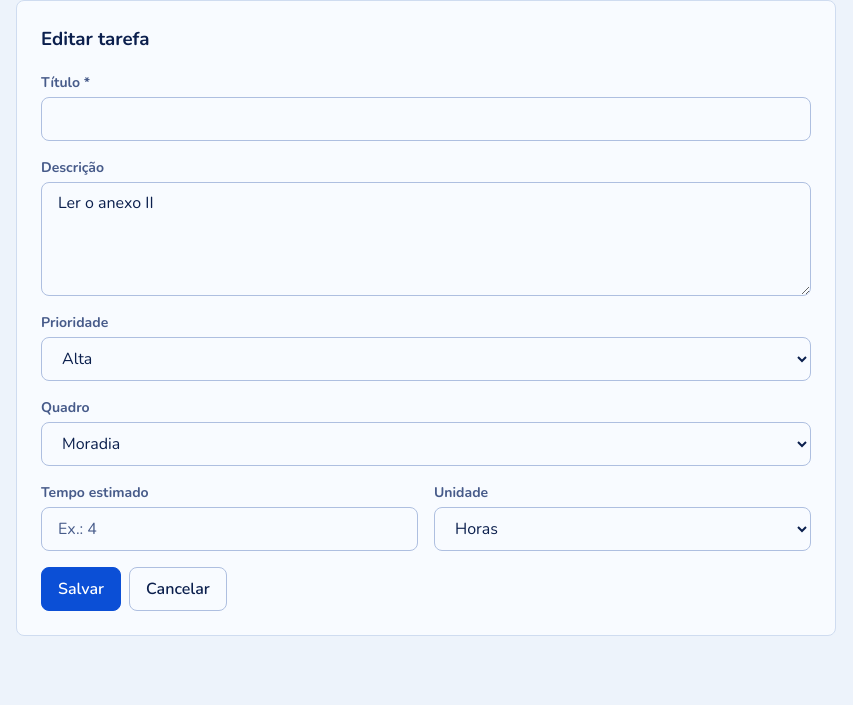
Test case: TaskForm › recusa tempo estimado fora do intervalo
Type "Criar relatorio" into the field labelled "Título *".
click(426, 119); type("Criar relatorio")  # box [41,97,811,141]
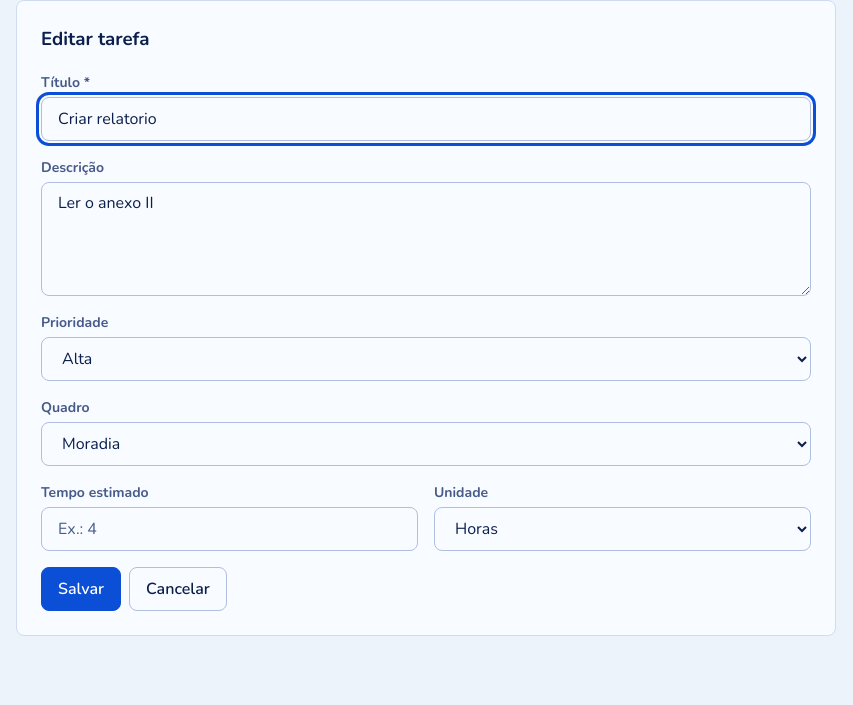
Type "250" into the number field labelled "Tempo estimado".
click(230, 529); type("250")  # box [41,507,418,551]
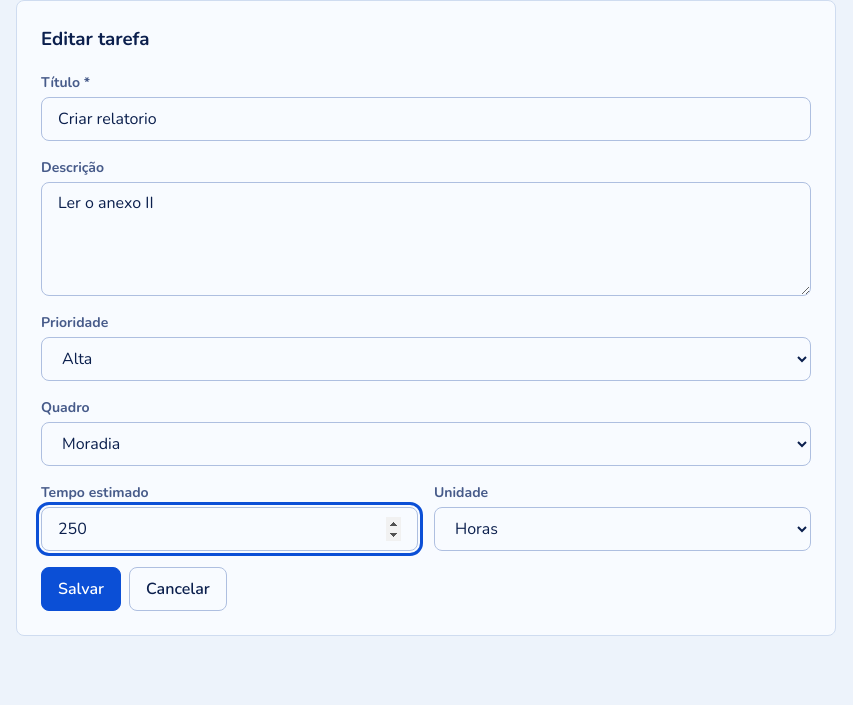
Click the button "Salvar".
click(81, 589)  # box [41,567,121,611]
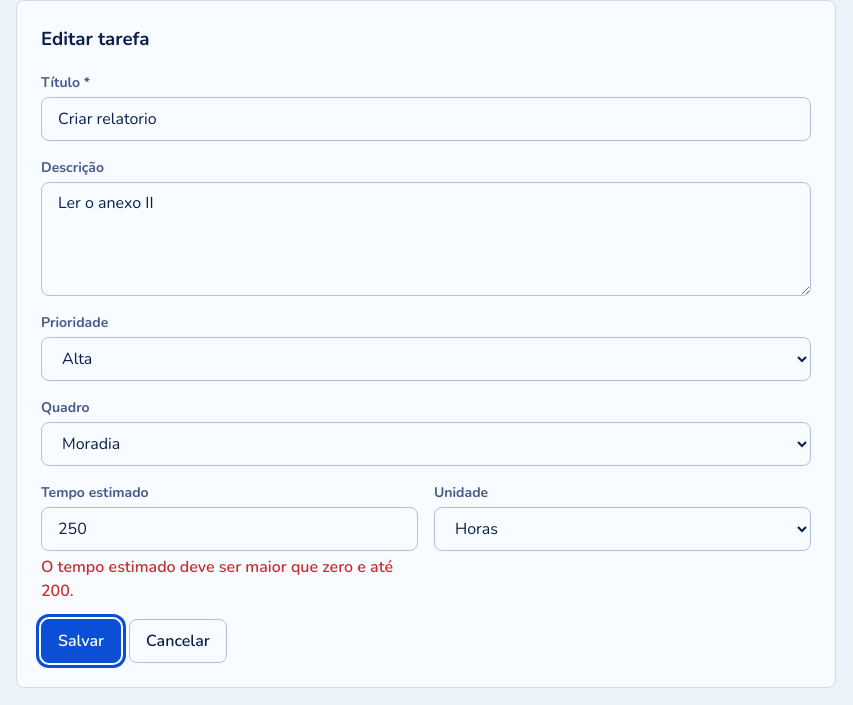
Now the message reads "O tempo estimado deve ser maior que zero e até 200.", box [41,556,393,602]
